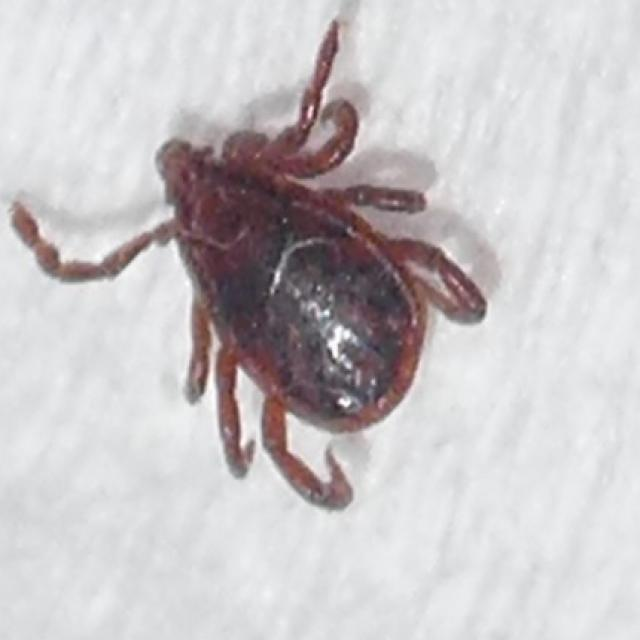Rhipicephalus Sanguineus-M: (7, 21, 490, 512)
